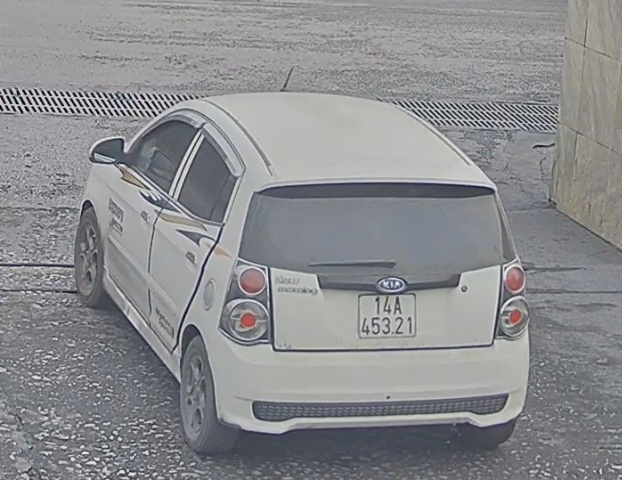vehicle plate: (351, 283, 419, 340)
